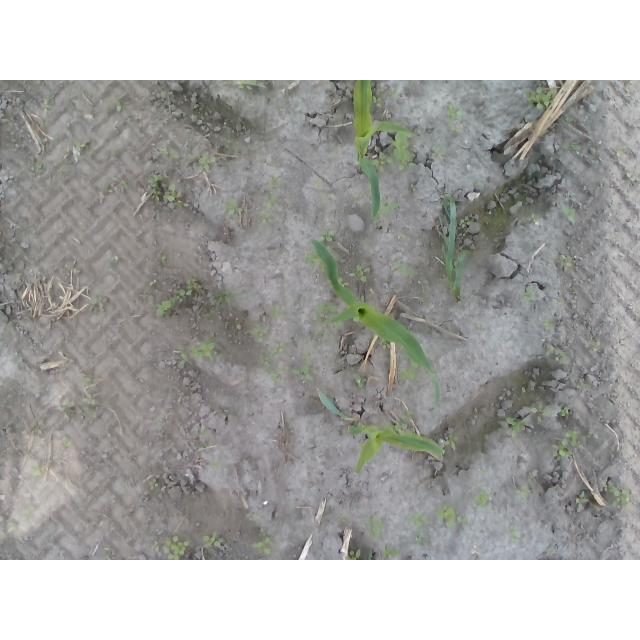Maize: (313, 238, 444, 407), (351, 80, 416, 221), (347, 423, 446, 473)
Weeds: (439, 196, 474, 305), (151, 278, 201, 318), (145, 173, 191, 209), (178, 341, 226, 371), (553, 427, 592, 461), (318, 390, 354, 421), (391, 129, 417, 171), (152, 536, 193, 561), (521, 83, 555, 109), (603, 482, 632, 511), (435, 504, 469, 528), (59, 398, 97, 418), (293, 352, 316, 384), (384, 411, 416, 433), (446, 103, 466, 138), (212, 289, 241, 312), (260, 192, 280, 225), (544, 344, 569, 368), (255, 368, 289, 385), (525, 401, 551, 423), (252, 529, 273, 555), (372, 151, 393, 175), (400, 360, 420, 385), (368, 512, 385, 541), (304, 251, 324, 274), (348, 262, 371, 282), (507, 415, 530, 435), (263, 175, 289, 192), (103, 178, 130, 194), (88, 288, 105, 313), (380, 200, 403, 218), (406, 511, 430, 528), (392, 263, 417, 279), (202, 529, 223, 548), (249, 324, 271, 342), (197, 153, 217, 172), (226, 198, 247, 215), (351, 368, 368, 389), (551, 255, 574, 270), (473, 489, 492, 507), (520, 286, 537, 306), (561, 207, 578, 226), (342, 544, 362, 560), (160, 146, 181, 161), (237, 81, 265, 92), (516, 486, 533, 504), (383, 544, 402, 560), (112, 97, 131, 113), (319, 302, 337, 318), (31, 158, 47, 175), (320, 229, 337, 244), (147, 478, 162, 495), (575, 491, 586, 514), (271, 341, 289, 355), (71, 138, 89, 152), (431, 145, 447, 160), (259, 352, 273, 368), (560, 115, 576, 129), (319, 190, 337, 202), (32, 464, 44, 481), (23, 503, 34, 521), (415, 528, 426, 545), (1, 519, 18, 530), (511, 528, 522, 545), (447, 433, 458, 449), (112, 255, 121, 274), (372, 95, 384, 109), (337, 513, 351, 525), (271, 305, 282, 320), (211, 460, 226, 471), (530, 212, 542, 225), (559, 406, 572, 418), (543, 319, 554, 333), (564, 144, 581, 153), (338, 276, 350, 288), (40, 97, 49, 113), (545, 545, 556, 557), (592, 341, 602, 354), (527, 472, 538, 483), (159, 256, 170, 267), (576, 383, 593, 390), (63, 439, 73, 450), (477, 467, 488, 477), (196, 443, 209, 450), (391, 88, 401, 97), (616, 147, 625, 157), (628, 176, 640, 183), (408, 183, 416, 193), (198, 431, 208, 438), (160, 89, 168, 96), (314, 180, 320, 187)
